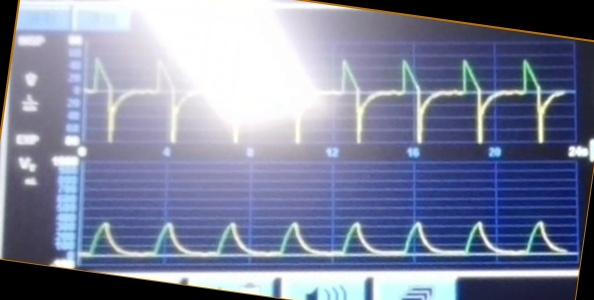Normal Flow: (89, 46, 570, 145)
Normal Volume: (82, 206, 567, 265)
